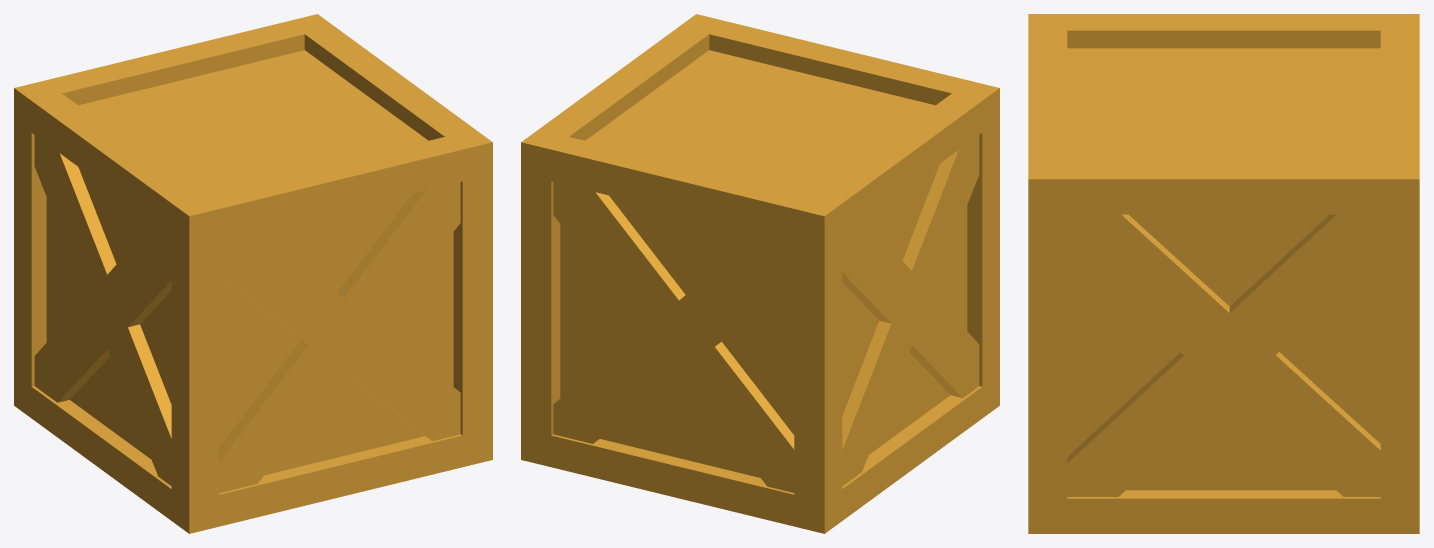
3 views of the same model, side by side, from view 1: azimuth 30°, elevation 25°; view 2: azimuth 150°, elevation 25°; view 3: azimuth 270°, elevation 25° (orthographic). The views are drawn at different scales.
Parts seen in each view (by area): view 1: Cube.003; view 2: Cube.003; view 3: Cube.003.
Part boxes in pixels (box(x1,y1,x2,y2)): Cube.003: box(14, 14, 492, 533); Cube.003: box(521, 14, 999, 533); Cube.003: box(1028, 14, 1419, 533).
Size of the model in its own units: 100 by 100 by 100.
